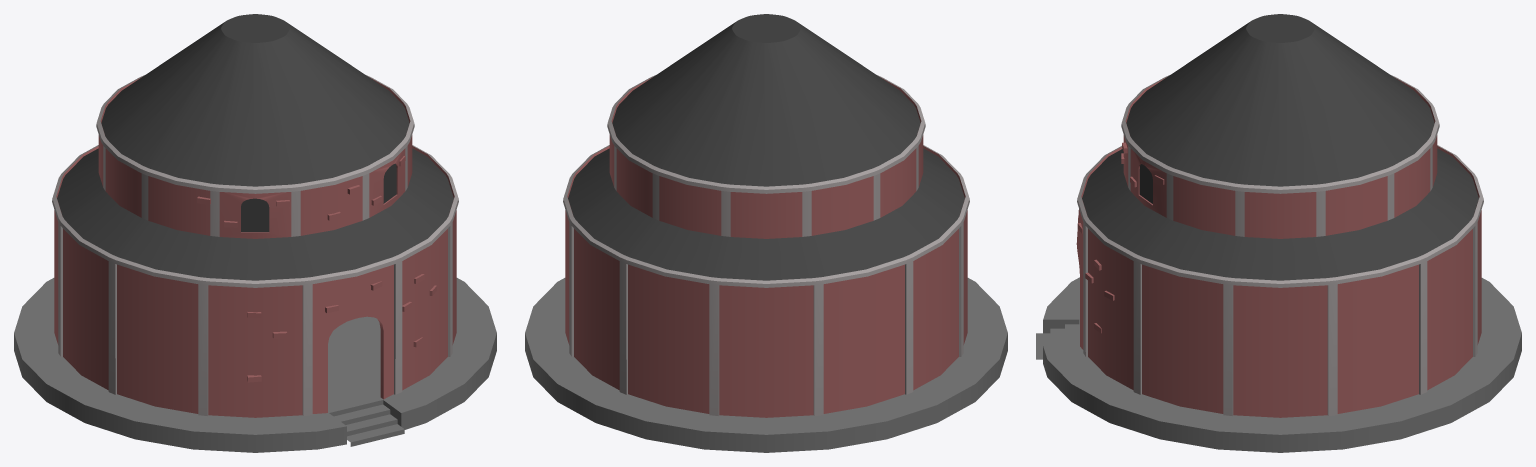
File: Round building.fbx
The picture shows the model from 3 angles, left to right: view 1: azimuth 30°, elevation 25°; view 2: azimuth 150°, elevation 25°; view 3: azimuth 270°, elevation 25°; orthographic projection.
Parts seen in each view (by area): view 1: Round building; view 2: Round building; view 3: Round building.
Boxes of the visible parts, x1,y1,x2,y2 form: Round building: (14,14,496,452); Round building: (525,14,1007,452); Round building: (1036,14,1521,452).
Size of the model in its own units: 2005 by 1477 by 2017.
